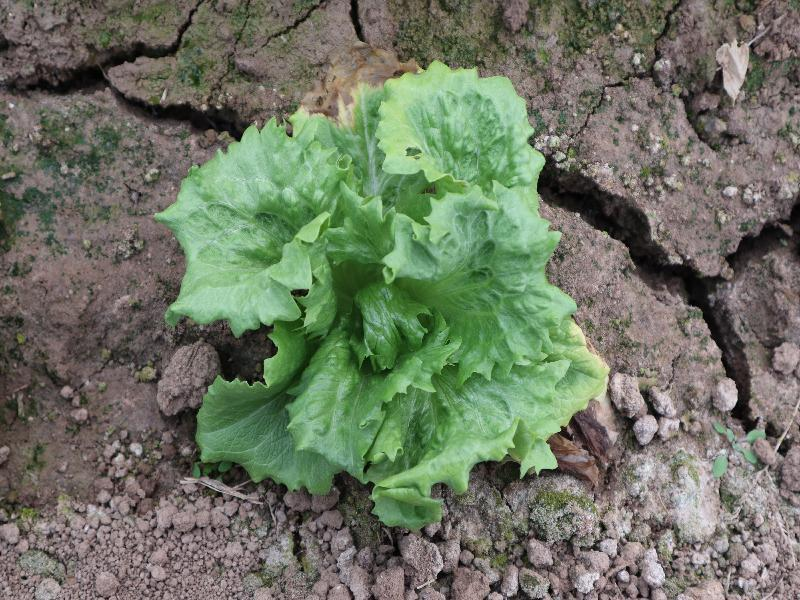lettuce: (151, 57, 606, 530)
